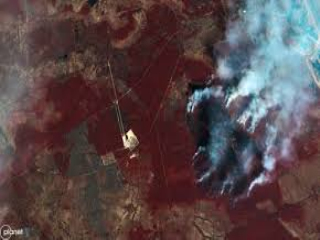smoke: (186, 13, 310, 198)
